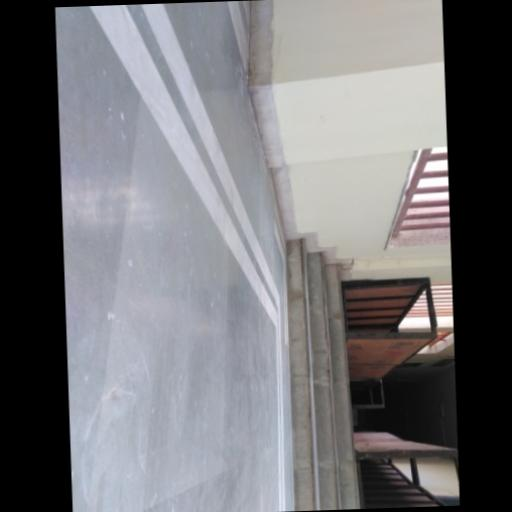stairs: (286, 239, 358, 510)
